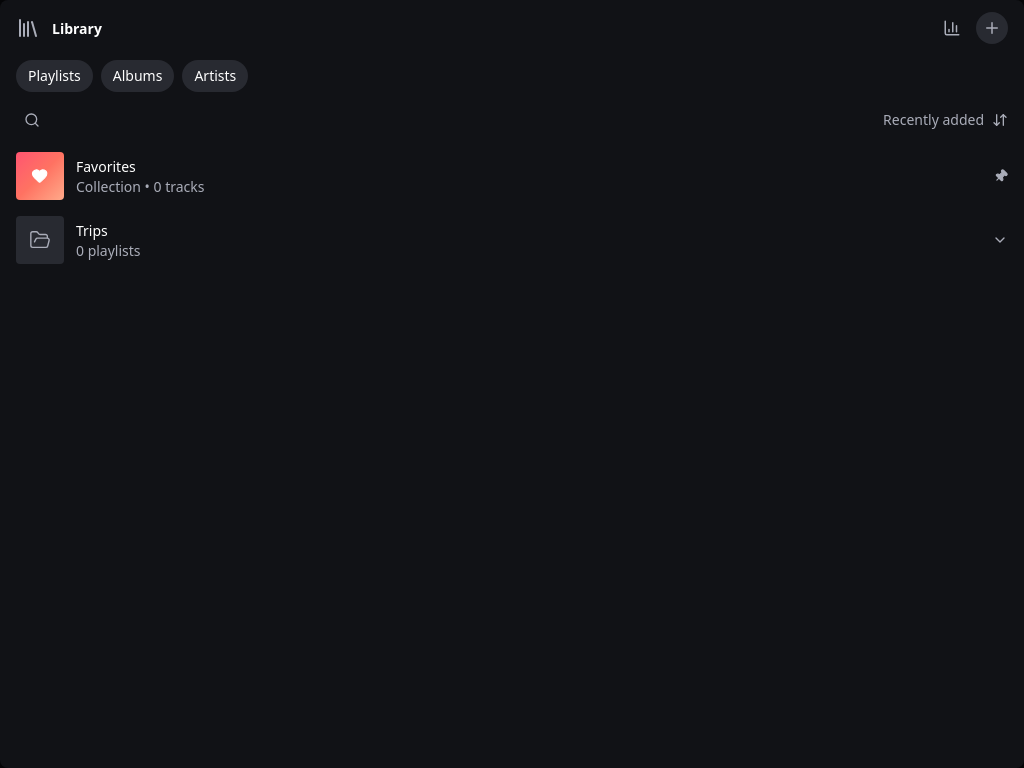
LibrarySidebar › lists matches flat while searching
Click the button named "Search library" at (32, 120), box [16,104,48,136]
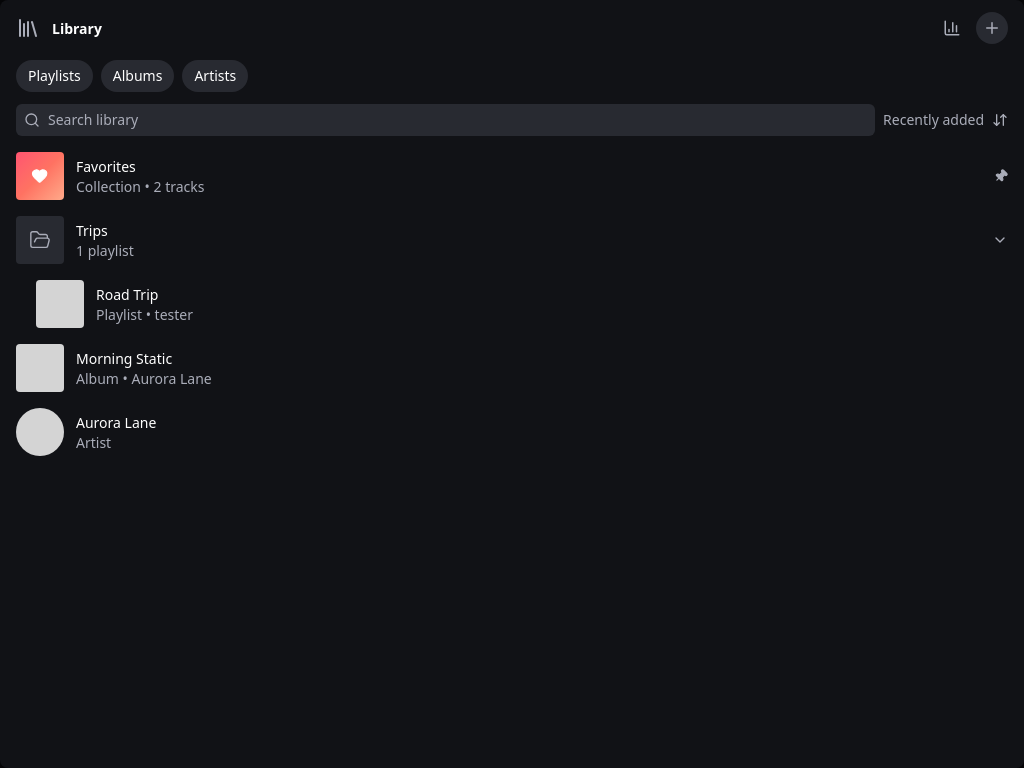
Type "road" into the field with placeholder "Search library" at (458, 120), box [48,110,867,130]
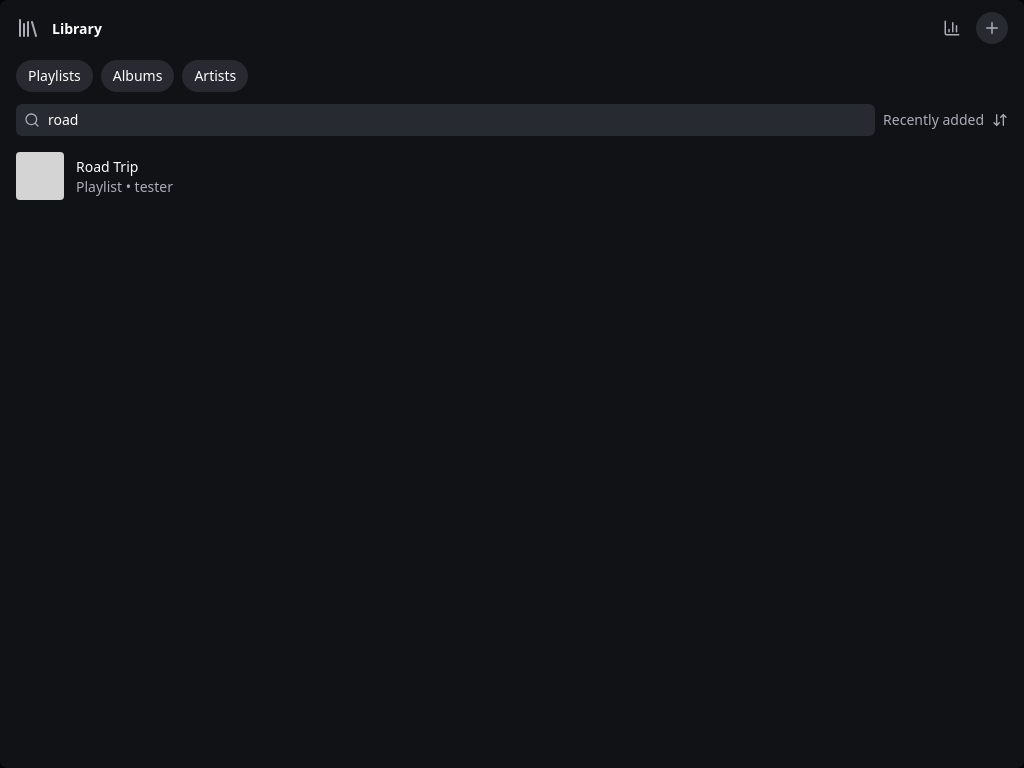
expect the text "Road Trip" is shown: met, box [76,156,138,176]
expect the button "Trips" is gone: met
